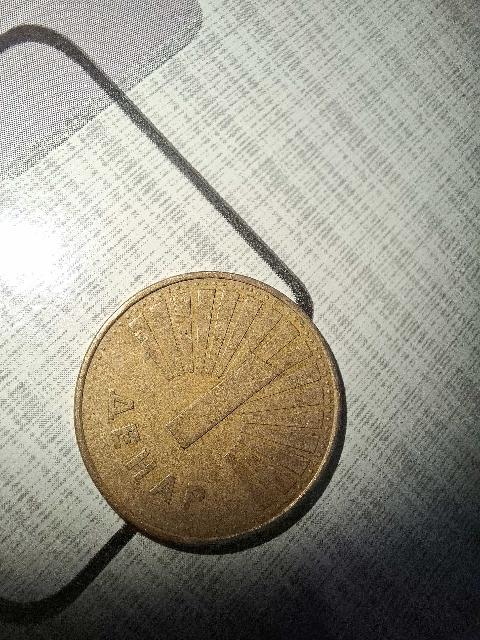coin: (75, 273, 341, 544)
